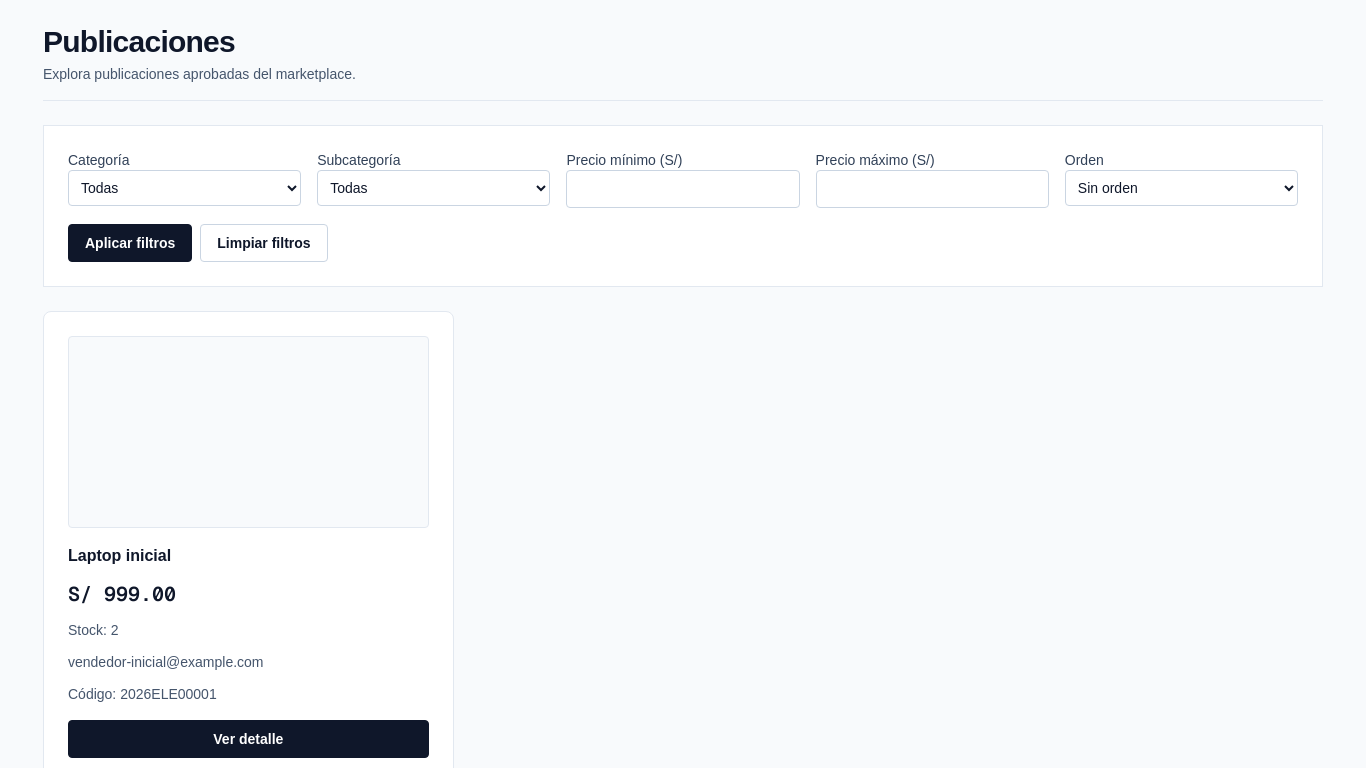
Test: PublicacionesPage (PHA05TSK04) › cambia la consulta y los resultados al aplicar categoría, rango de precio y orden explícitamente
expect the text "Laptop inicial" is shown: met, box left=68, top=547, right=171, bottom=564
Step 1. Select "Tecnología" in the dropdown labelled "Categoría" → [185, 188], box left=68, top=170, right=301, bottom=206
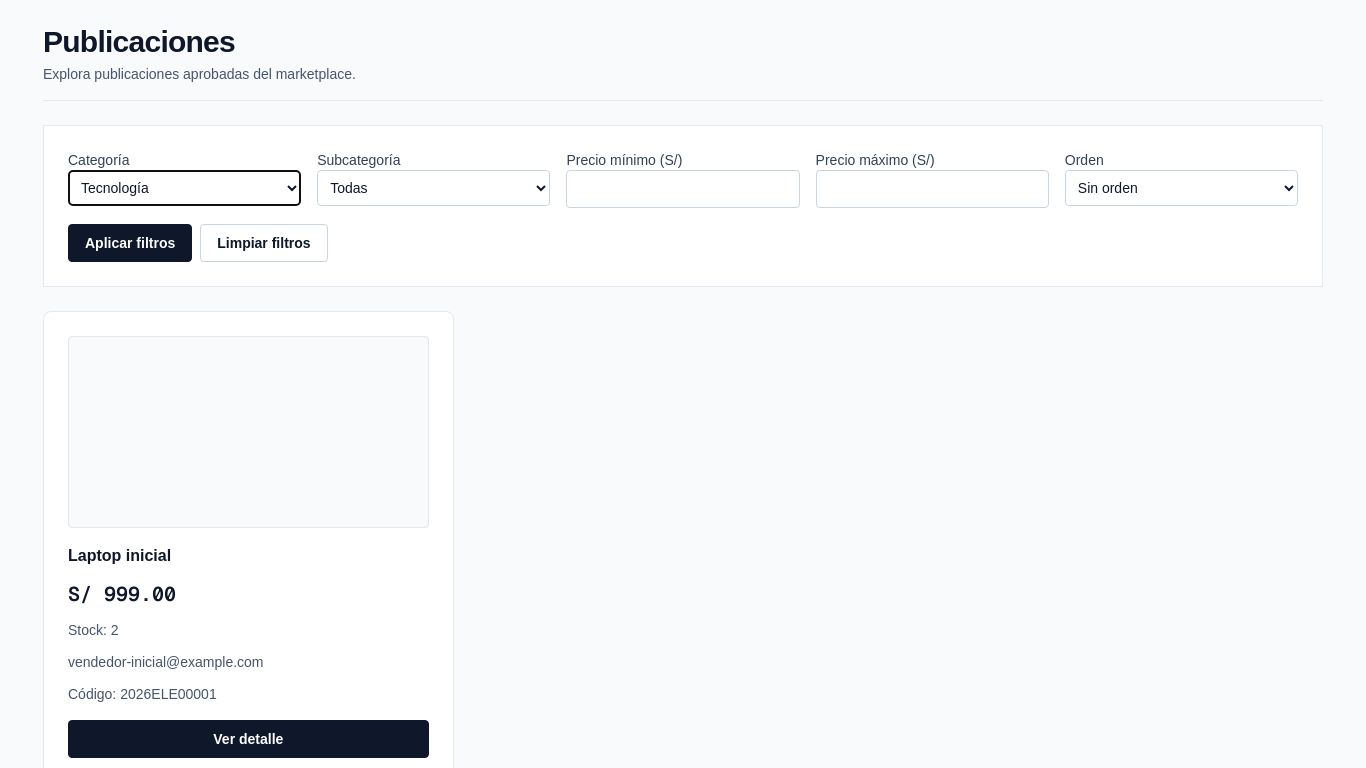
Step 2. Select "Laptops" in the dropdown labelled "Subcategoría" → [434, 188], box left=317, top=170, right=550, bottom=206
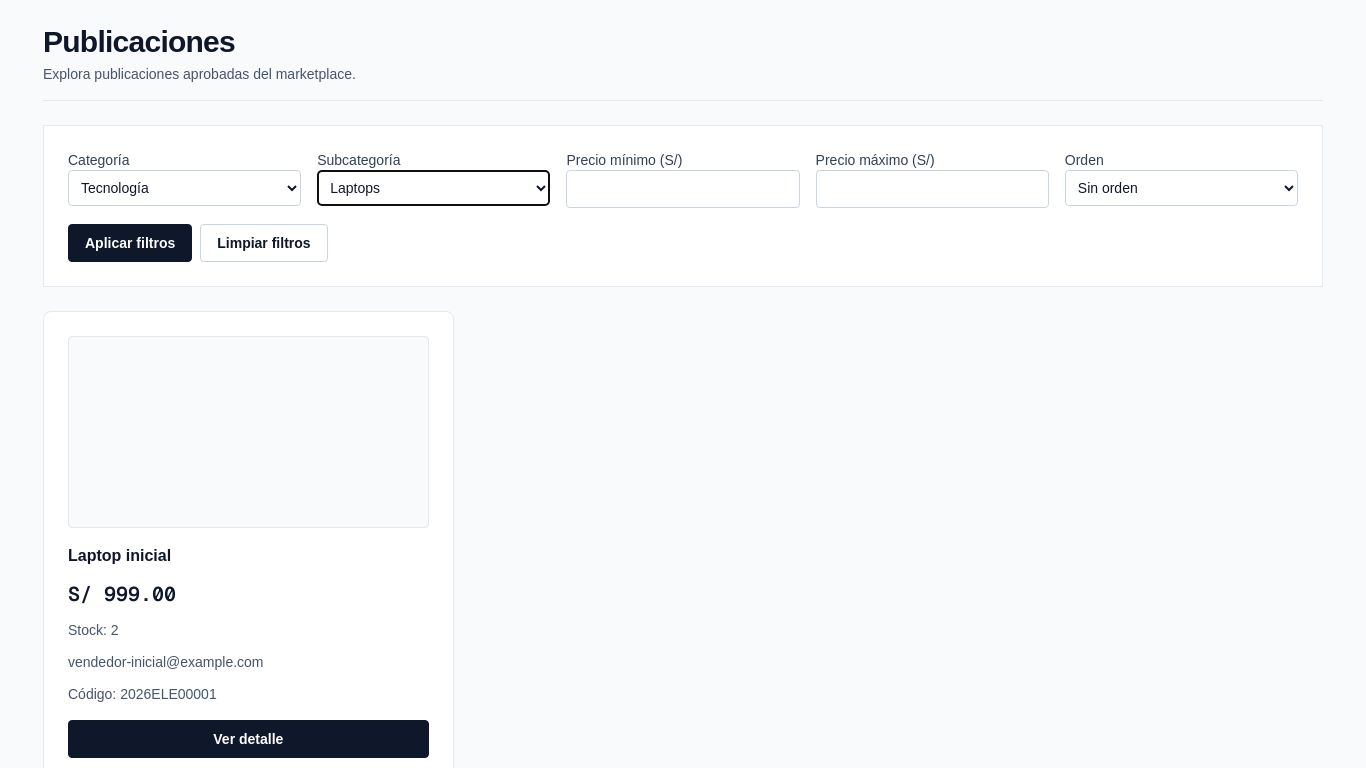
Step 3. Type "1200.50" into the field labelled "Precio mínimo (S/)" → [683, 189], box left=566, top=170, right=800, bottom=208
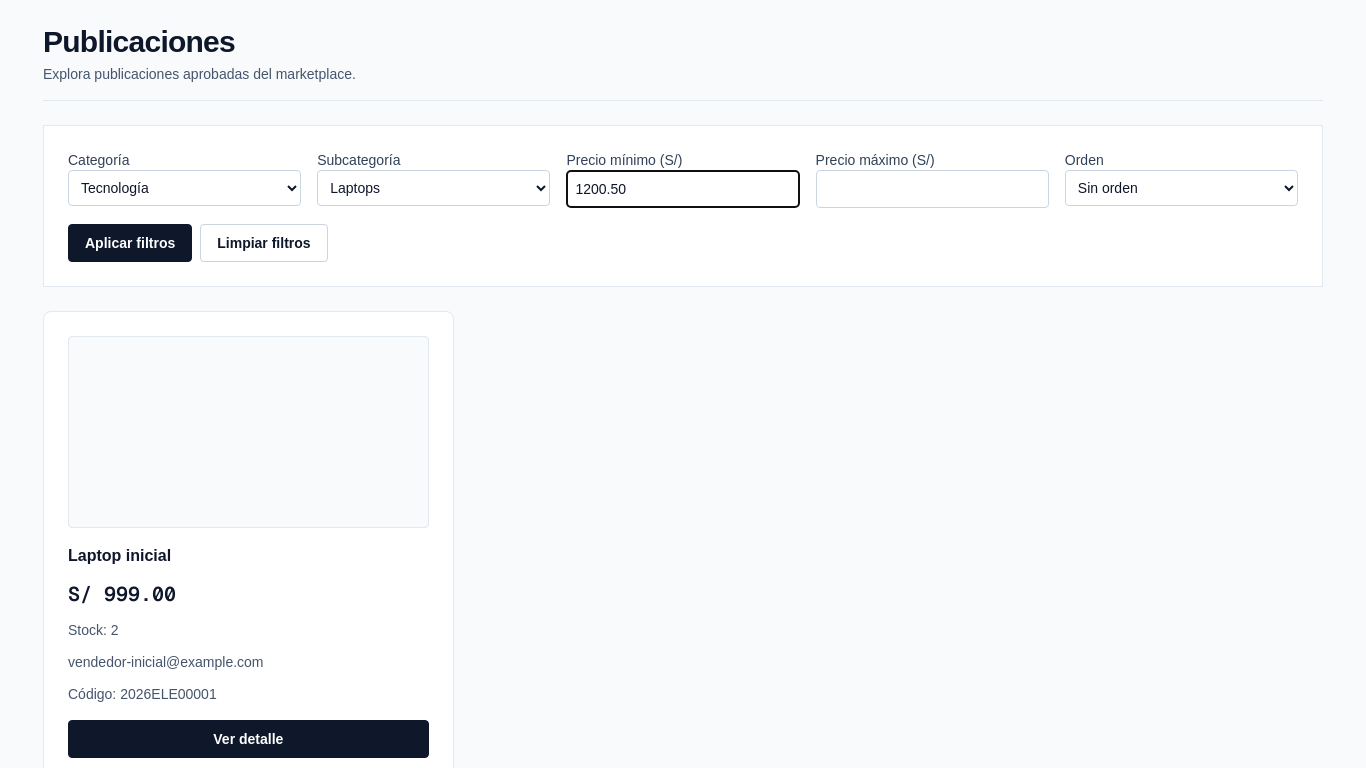
Step 4. Type "1300" into the field labelled "Precio máximo (S/)" → [932, 189], box left=816, top=170, right=1049, bottom=208
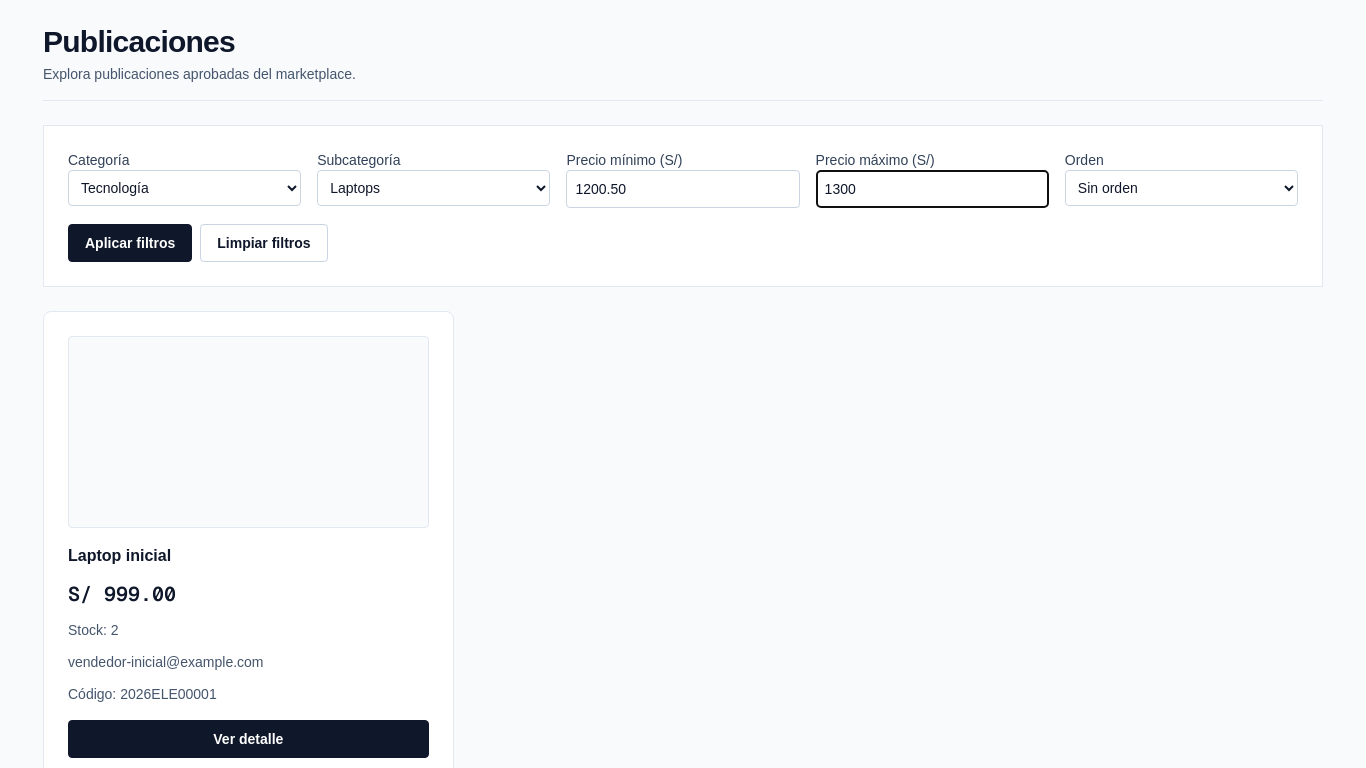
Step 5. Select "Precio: menor a mayor" in the dropdown labelled "Orden" → [1181, 188], box left=1065, top=170, right=1298, bottom=206
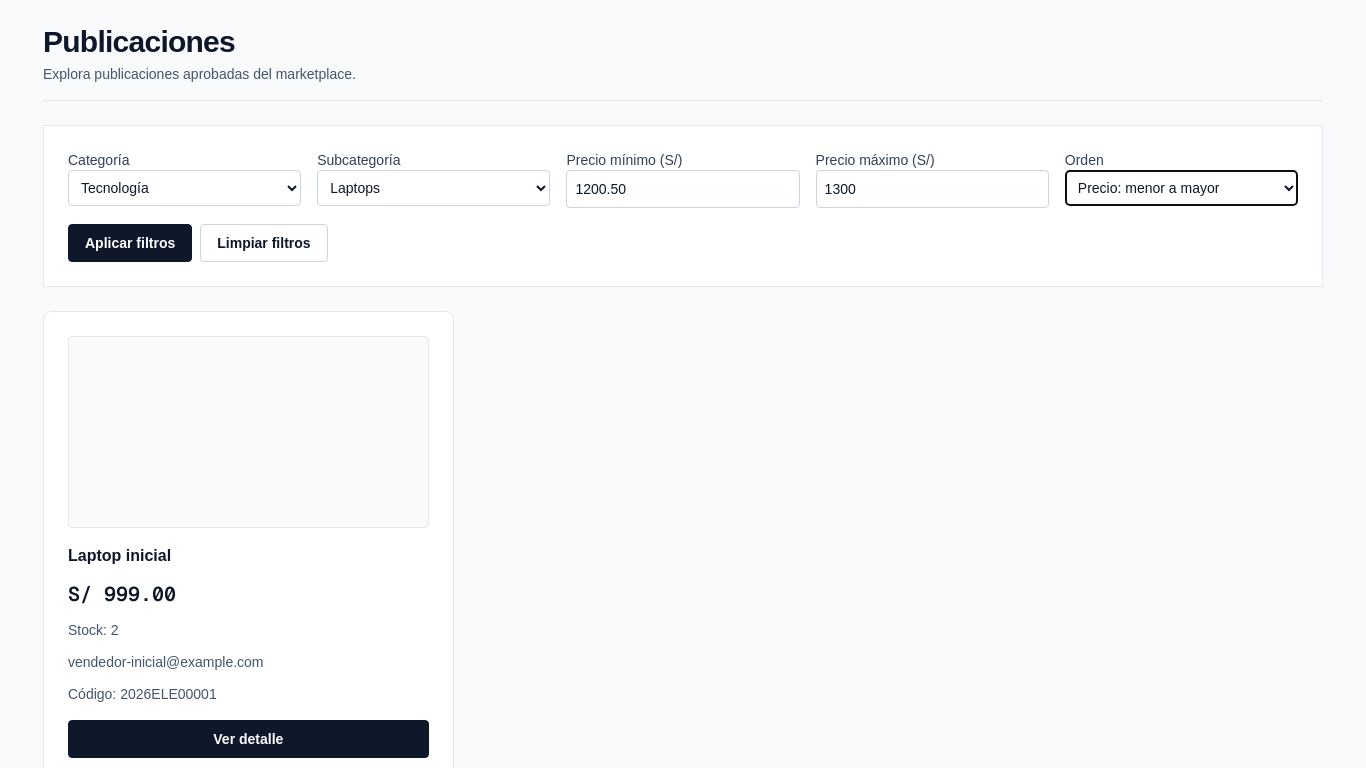
Step 6. Click the button "Aplicar filtros" → [130, 243], box left=68, top=224, right=192, bottom=262
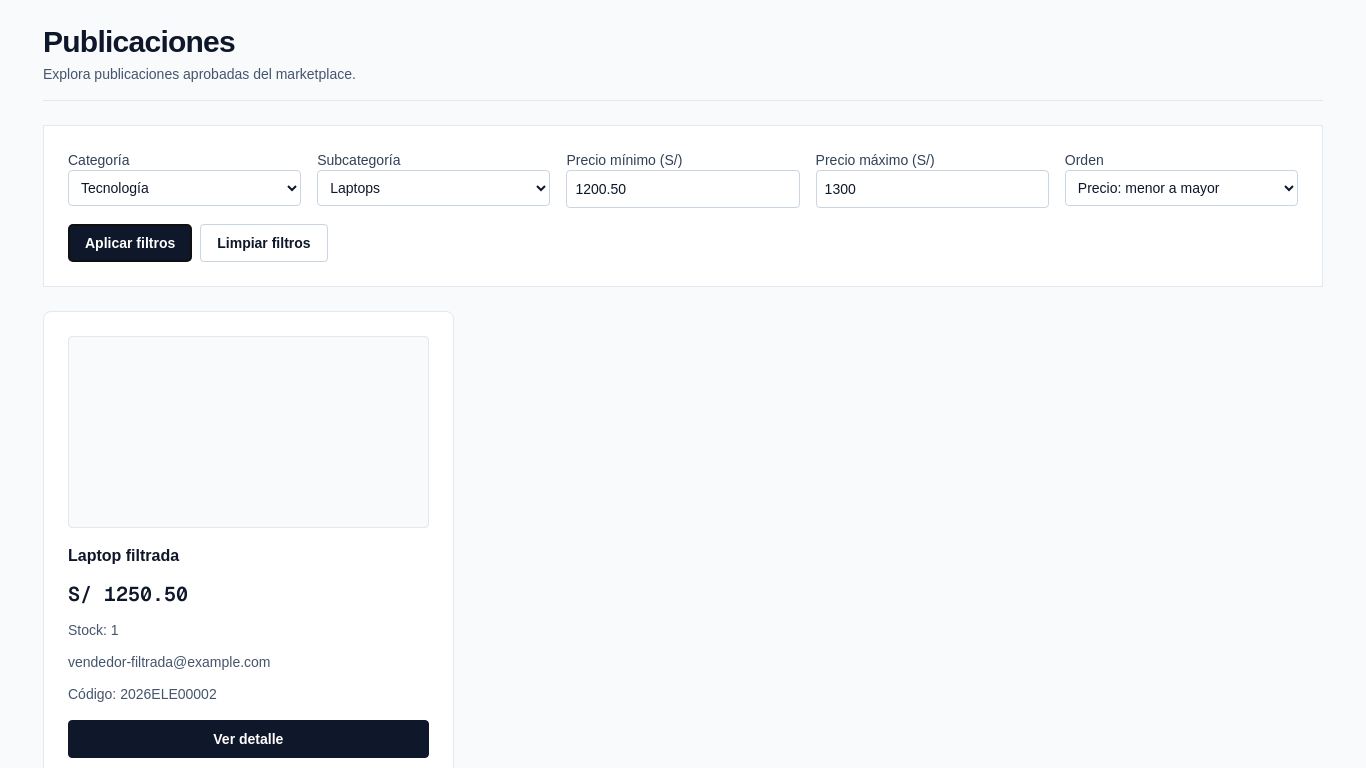
expect the text "Laptop filtrada" is shown: met, box left=68, top=547, right=179, bottom=564
expect the text "Laptop inicial" is gone: met
